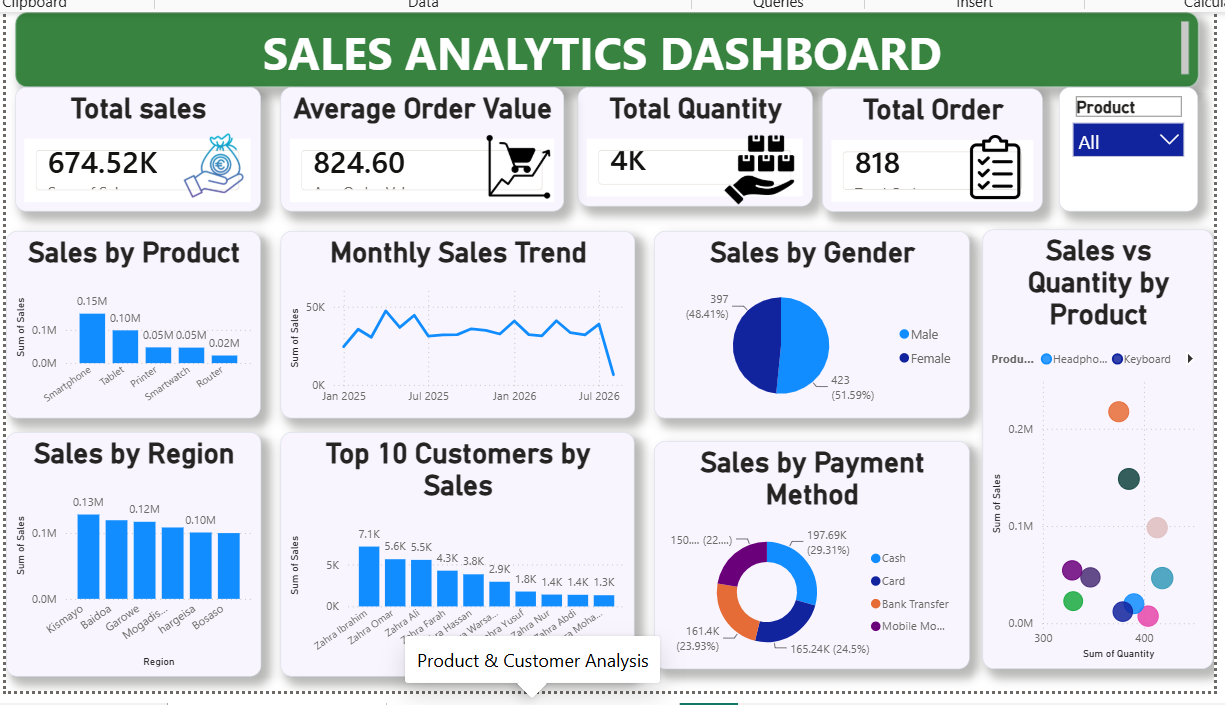

The dashboard page shown, as its layout file describes it:
{"tool":"powerbi","page":{"name":"Executive Overview","canvas":[1280,720],"ordinal":0},"visuals":[{"type":"textbox","box":[10,0,1255,80],"z":0},{"type":"cardVisual","title":"Total sales","fields":{"Data":["Sum(Clean Data.Sales)"]},"box":[9.4,79.4,260.8,132.3],"z":1000},{"type":"cardVisual","title":"Total Quantity","fields":{"Data":["Sum(Clean Data.Quantity)"]},"box":[606.6,79.4,249.5,126.6],"z":2000},{"type":"cardVisual","title":"Total Order","fields":{"Data":["Clean Data.Total Orders"]},"box":[865.5,81.3,234.3,130.4],"z":3000},{"type":"cardVisual","title":"Average Order Value","fields":{"Data":["Clean Data.Avg Order Value"]},"box":[291,79.4,300.5,132.3],"z":4000},{"type":"lineChart","title":"Monthly Sales Trend","fields":{"Y":["Sum(Clean Data.Sales)"],"Category":["Clean Data.Order Date.Variation.Date Hierarchy.Year","Clean Data.Order Date.Variation.Date Hierarchy.Month"]},"box":[291,232.4,376.1,198.4],"z":5000},{"type":"clusteredColumnChart","title":"Sales by Product","fields":{"Category":["Clean Data.Product"],"Y":["Sum(Clean Data.Sales)"]},"box":[0,232.4,270.2,198.4],"z":6000},{"type":"clusteredColumnChart","title":"Sales by Region","fields":{"Category":["Clean Data.Region"],"Y":["Sum(Clean Data.Sales)"]},"box":[0,445.4,270.4,259.3],"z":7000},{"type":"clusteredColumnChart","title":"Top 10 Customers by Sales","fields":{"Y":["Sum(Clean Data.Sales)"],"Category":["Clean Data.Customer_Name"]},"box":[291.1,445.4,375.4,259.3],"z":8000},{"type":"donutChart","title":"Sales by Payment Method","fields":{"Category":["Clean Data.Payment_Method"],"Y":["Sum(Clean Data.Sales)"]},"box":[687.1,454.9,334.5,241.9],"z":9000},{"type":"slicer","fields":{"Values":["Clean Data.Product"]},"box":[1116.9,79.4,147.4,132.3],"z":10000},{"type":"pieChart","title":"Sales by Gender","fields":{"Category":["Clean Data.Gender"],"Y":["CountNonNull(Clean Data.Region)"]},"box":[687.9,232.4,334.5,198.4],"z":11000},{"type":"image","box":[170.1,128.5,100.2,68],"z":12000},{"type":"image","box":[430.9,122.8,224.9,83.2],"z":13000},{"type":"image","box":[718.1,128.5,162.5,77.5],"z":14000},{"type":"image","box":[982.7,130.4,132.3,68],"z":15000},{"type":"scatterChart","title":"Sales vs Quantity by Product","fields":{"X":["Sum(Clean Data.Quantity)"],"Y":["Sum(Clean Data.Sales)"],"Size":["Clean Data.Total Orders"],"Series":["Clean Data.Product"]},"box":[1035.5,230.6,245,466],"z":16000}]}

Visuals, with their boxes on the page's 1280x720 design canvas (x1, y1, x2, y2). These are canvas units, not pixel positions in the 1225x705 screenshot, which may show the page scaled, cropped or inside an application window:
textbox: rect(10, 0, 1265, 80)
"Total sales" cardVisual: rect(9, 79, 270, 212)
"Total Quantity" cardVisual: rect(607, 79, 856, 206)
"Total Order" cardVisual: rect(866, 81, 1100, 212)
"Average Order Value" cardVisual: rect(291, 79, 592, 212)
"Monthly Sales Trend" lineChart: rect(291, 232, 667, 431)
"Sales by Product" clusteredColumnChart: rect(0, 232, 270, 431)
"Sales by Region" clusteredColumnChart: rect(0, 445, 270, 705)
"Top 10 Customers by Sales" clusteredColumnChart: rect(291, 445, 666, 705)
"Sales by Payment Method" donutChart: rect(687, 455, 1022, 697)
slicer - Clean Data.Product: rect(1117, 79, 1264, 212)
"Sales by Gender" pieChart: rect(688, 232, 1022, 431)
image: rect(170, 128, 270, 196)
image: rect(431, 123, 656, 206)
image: rect(718, 128, 881, 206)
image: rect(983, 130, 1115, 198)
"Sales vs Quantity by Product" scatterChart: rect(1036, 231, 1280, 697)
